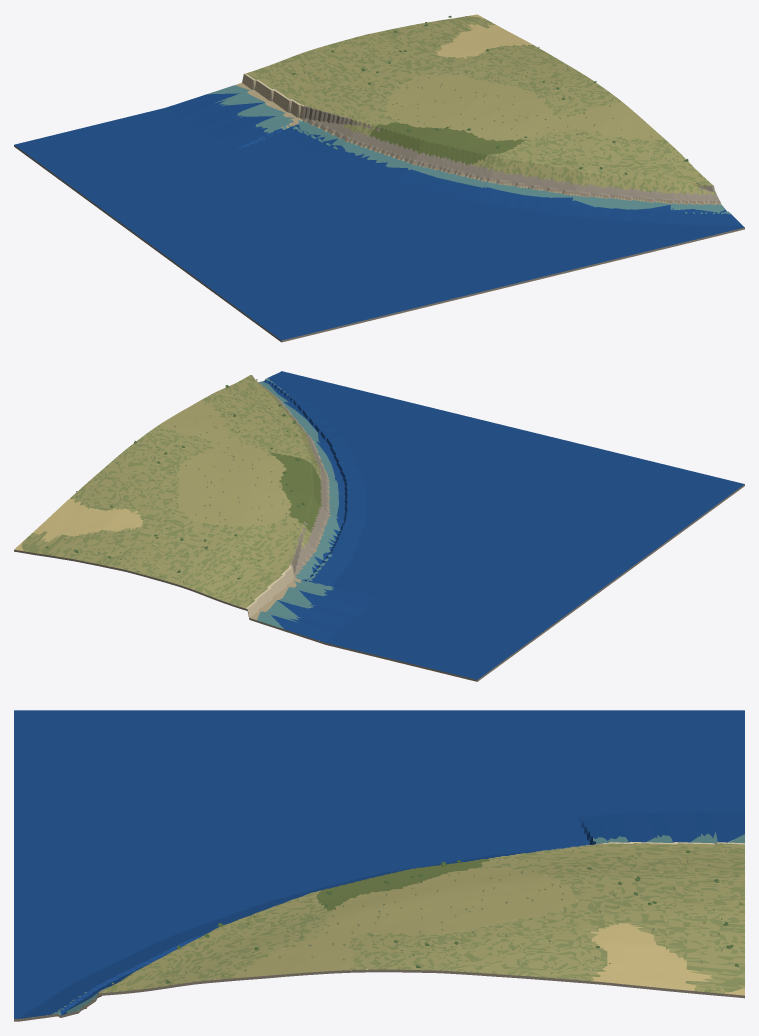
Rendered from parca_-4_-5-yakin.glb.
3 views of the same model, one above another, from view 1: azimuth 30°, elevation 25°; view 2: azimuth 150°, elevation 25°; view 3: azimuth 270°, elevation 25° (orthographic). The views are drawn at different scales.
Visible parts, largest first — view 1: parca_-4_-5_arazi, parca_-4_-5_bitkiler; view 2: parca_-4_-5_arazi, parca_-4_-5_bitkiler; view 3: parca_-4_-5_arazi, parca_-4_-5_bitkiler.
Part boxes in pixels (x1,y1,x2,y2): parca_-4_-5_arazi: (14, 14, 744, 342); parca_-4_-5_bitkiler: (259, 15, 698, 183); parca_-4_-5_arazi: (14, 371, 744, 681); parca_-4_-5_bitkiler: (28, 379, 321, 604); parca_-4_-5_arazi: (14, 710, 744, 1021); parca_-4_-5_bitkiler: (111, 843, 743, 991).
Size of the model in its own units: 1000 by 84.2 by 1000.
